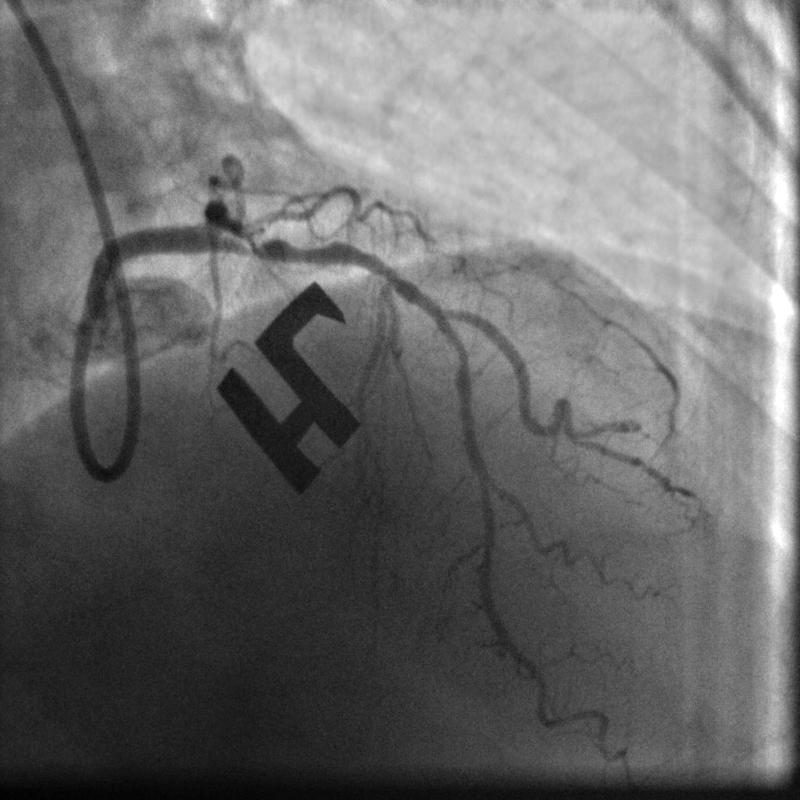Stenosis: (229, 232, 343, 265)
